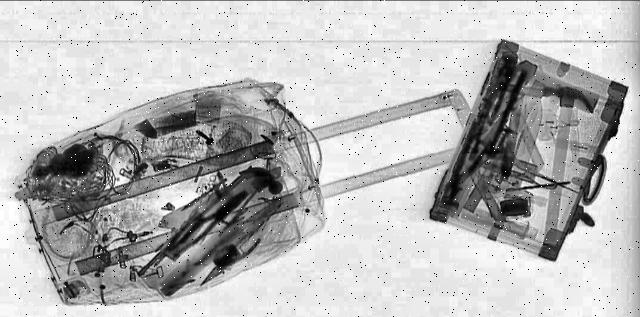Pliers: (192, 234, 266, 286)
